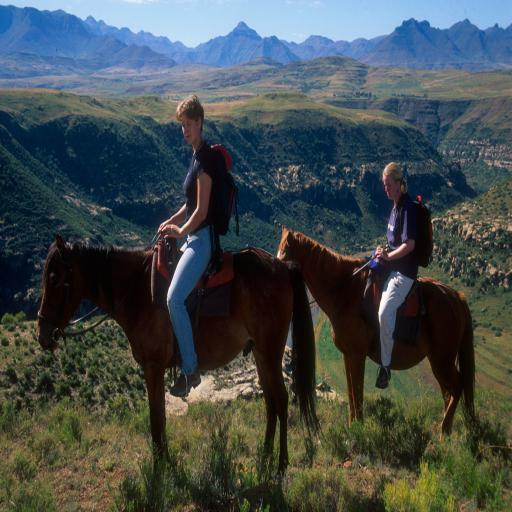horse: (34, 232, 326, 486), (276, 221, 478, 449)
